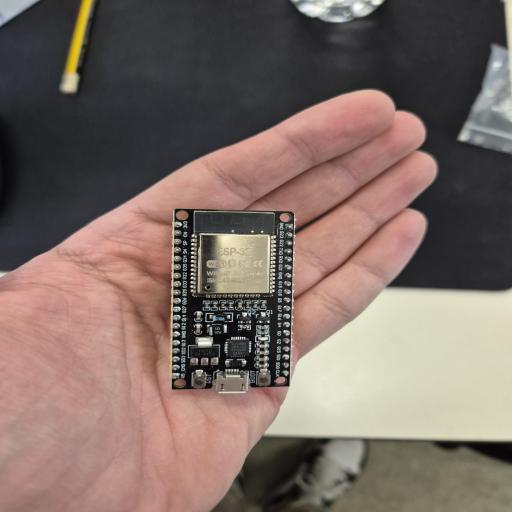esp32-dev: (172, 206, 294, 391)
